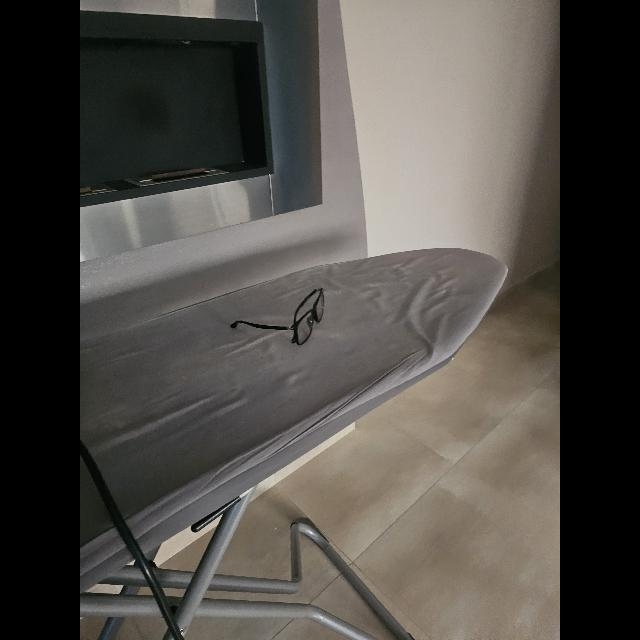glasses: (230, 288, 324, 346)
